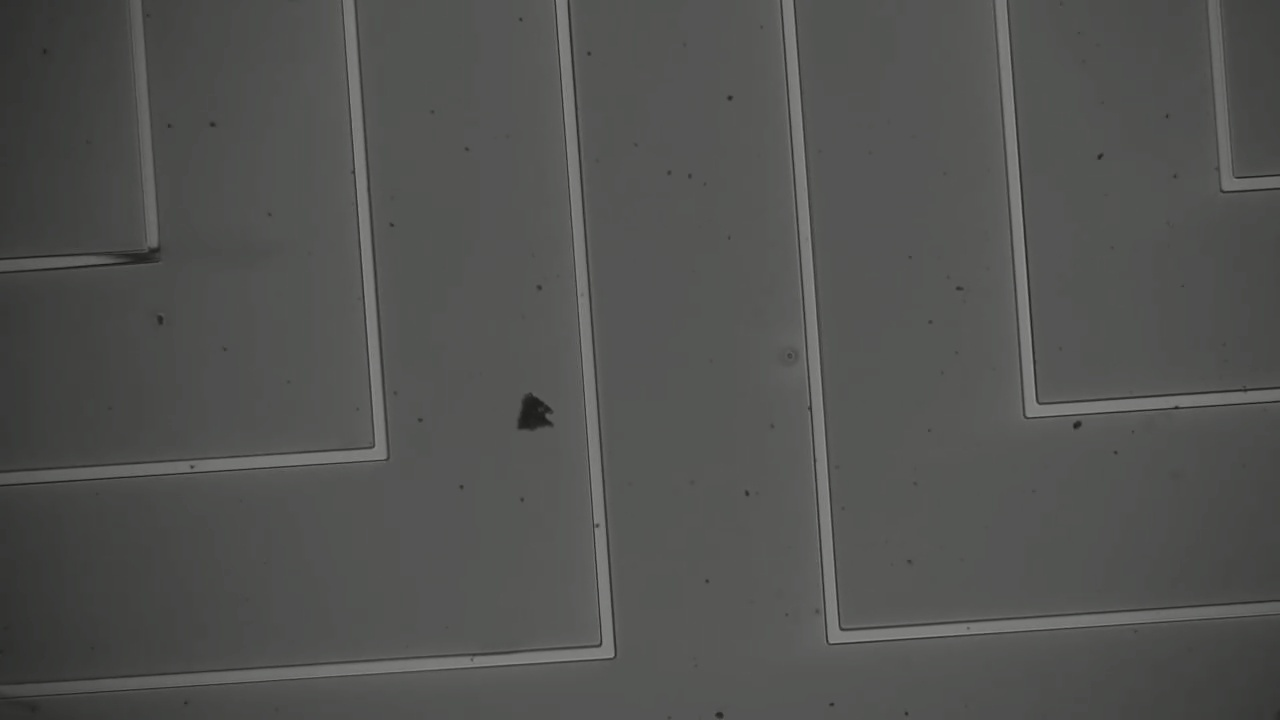gray_line: (93, 233, 172, 282)
